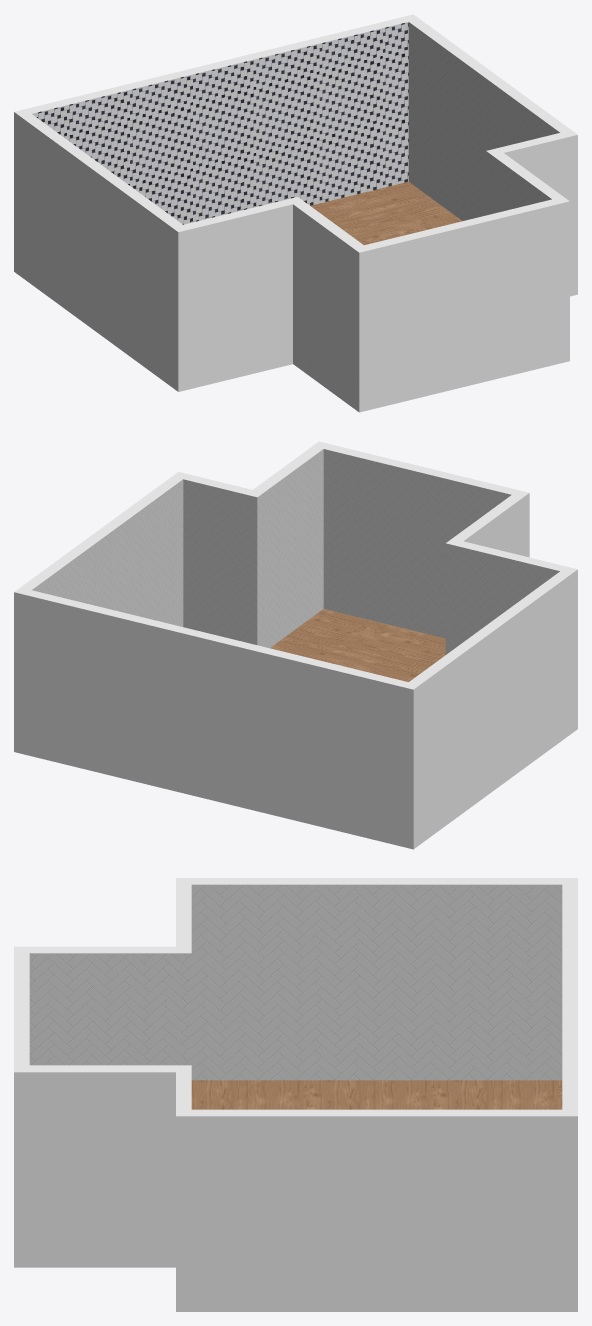
Rendered from sketch.fbx.
3 views of the same model, one above another, from view 1: azimuth 30°, elevation 25°; view 2: azimuth 150°, elevation 25°; view 3: azimuth 270°, elevation 25° (orthographic). The views are drawn at different scales.
Visible parts, largest first — view 1: Model; view 2: Model; view 3: Model.
Boxes of the visible parts, left/top/right/bottom form: Model: left=14, top=14, right=577, bottom=412; Model: left=14, top=441, right=577, bottom=849; Model: left=14, top=878, right=577, bottom=1311.
Size of the model in its own units: 88.52 by 33.84 by 88.52.
